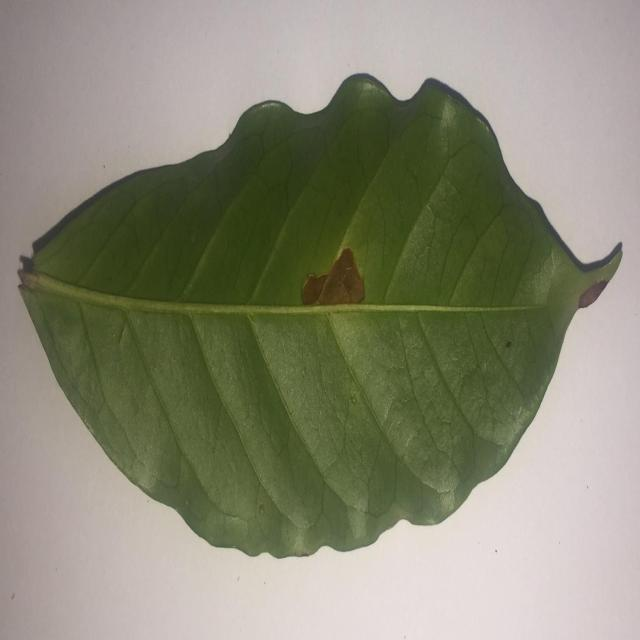Plaga-Minador: (18, 74, 624, 562)
